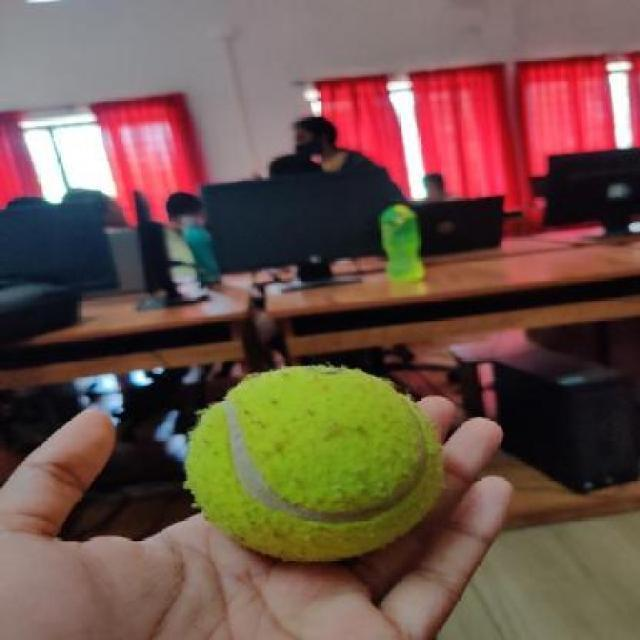-: (185, 369, 457, 566)
